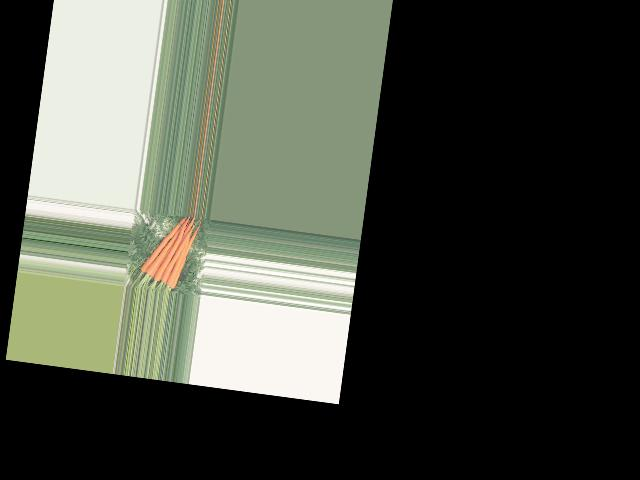carrot: (166, 218, 202, 292)
